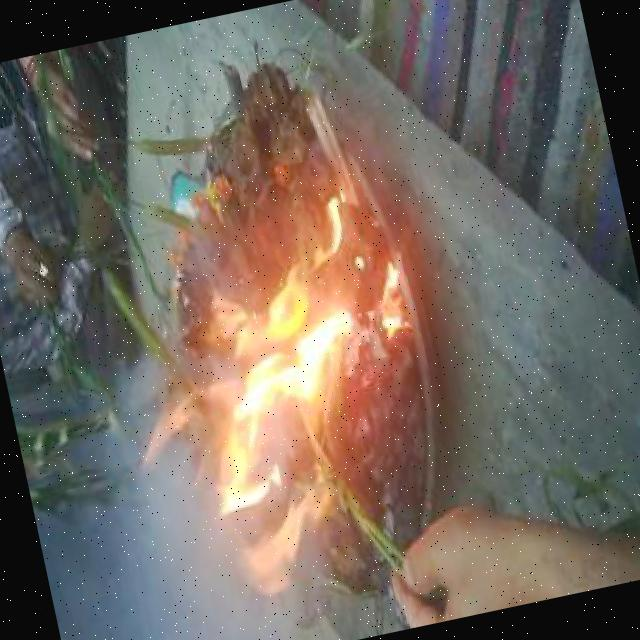fire: (192, 252, 387, 456), (217, 439, 350, 609), (123, 366, 225, 470), (349, 238, 419, 342), (298, 181, 359, 256)
